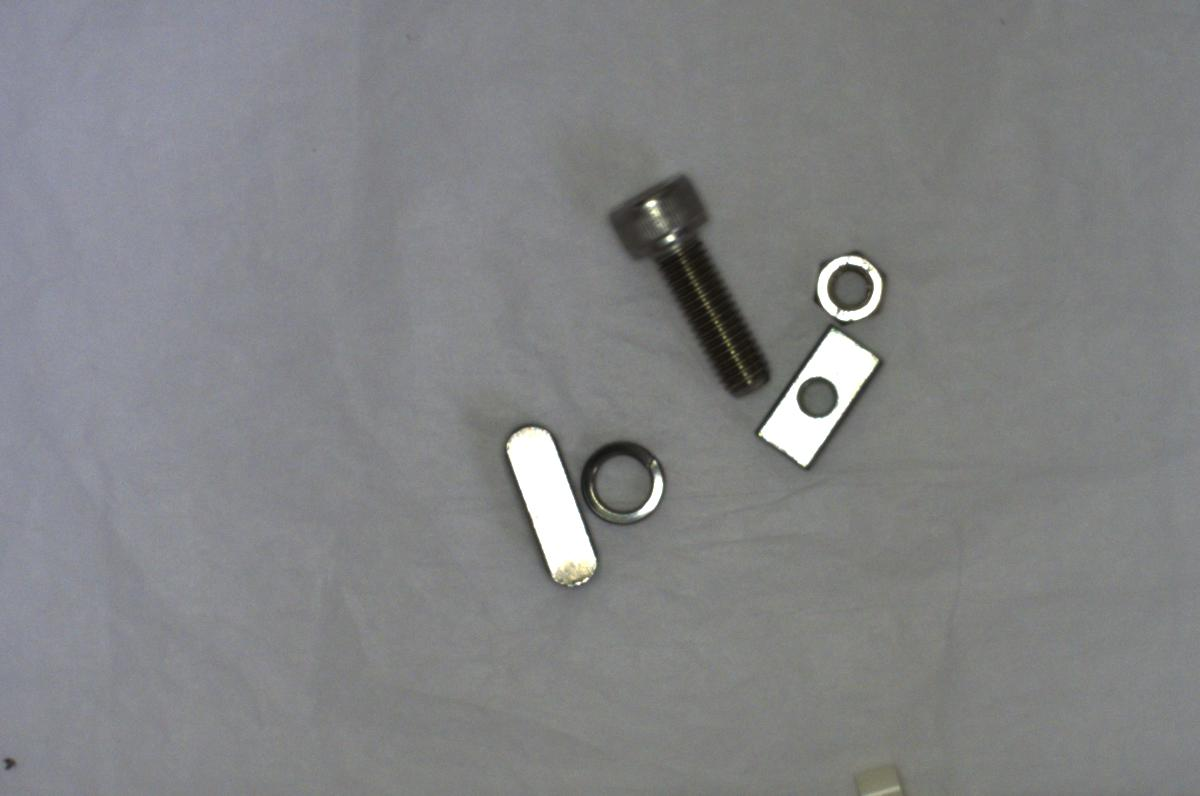Hexagon nut: (802, 243, 893, 328)
Hexagon screw: (605, 166, 767, 394)
Keybar: (500, 420, 606, 595)
Plastic cushion pillar: (847, 747, 913, 795)
Rectangular nut: (739, 322, 884, 473)
Spring washer: (579, 432, 675, 532)
